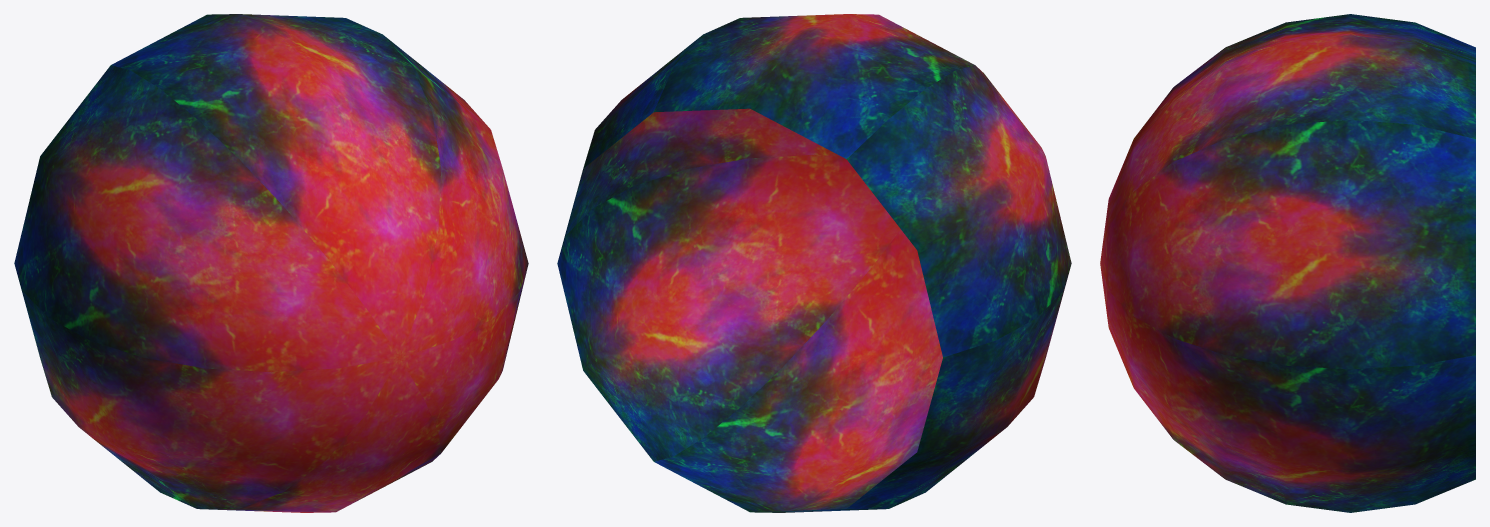
Rendered from projectilewave2.fbx.
3 views of the same model, side by side, from view 1: azimuth 30°, elevation 25°; view 2: azimuth 150°, elevation 25°; view 3: azimuth 270°, elevation 25° (orthographic). The views are drawn at different scales.
Parts seen in each view (by area): view 1: pSphere12; view 2: pSphere12; view 3: pSphere12.
Part boxes in pixels (x1,y1,x2,y2): pSphere12: (14,14,528,512); pSphere12: (557,14,1071,512); pSphere12: (1100,14,1475,512).
Bounding box in the file's own units: 34.12 × 34.12 × 25.59.
1 material, 1 textured.
